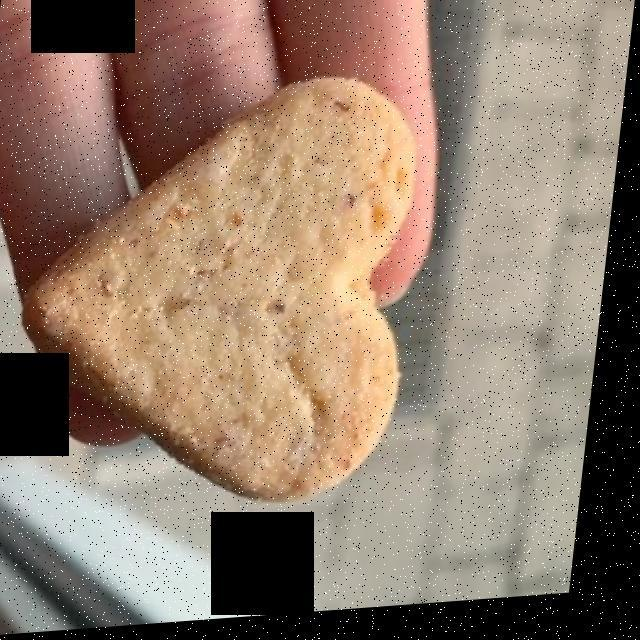biscuits: (39, 81, 417, 502)
